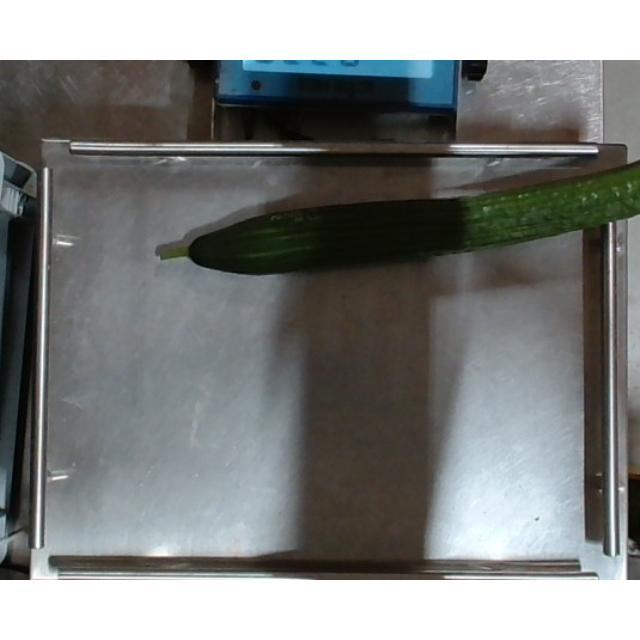cucumber: (158, 161, 640, 277)
